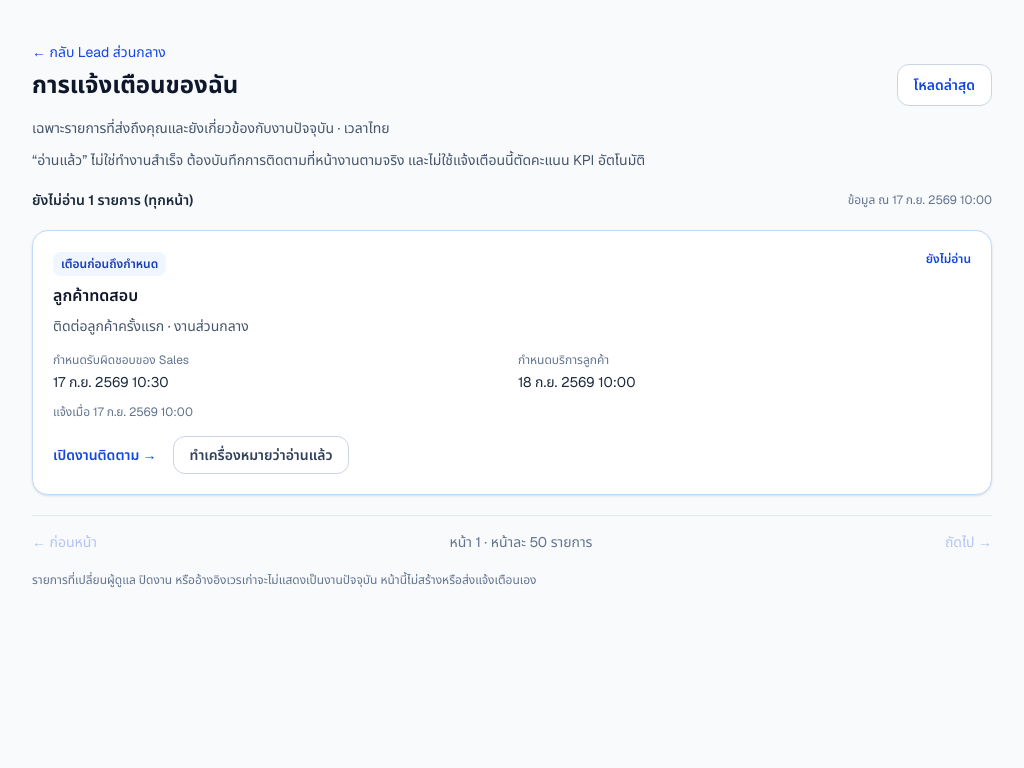
Scenario: own-recipient inbox › preserves a known successful acknowledgment if refresh fails
The width and height of the screenshot is (1024, 768).
Click the button "ทำเครื่องหมายว่าอ่านแล้ว": click(261, 455) [173,436,350,474]
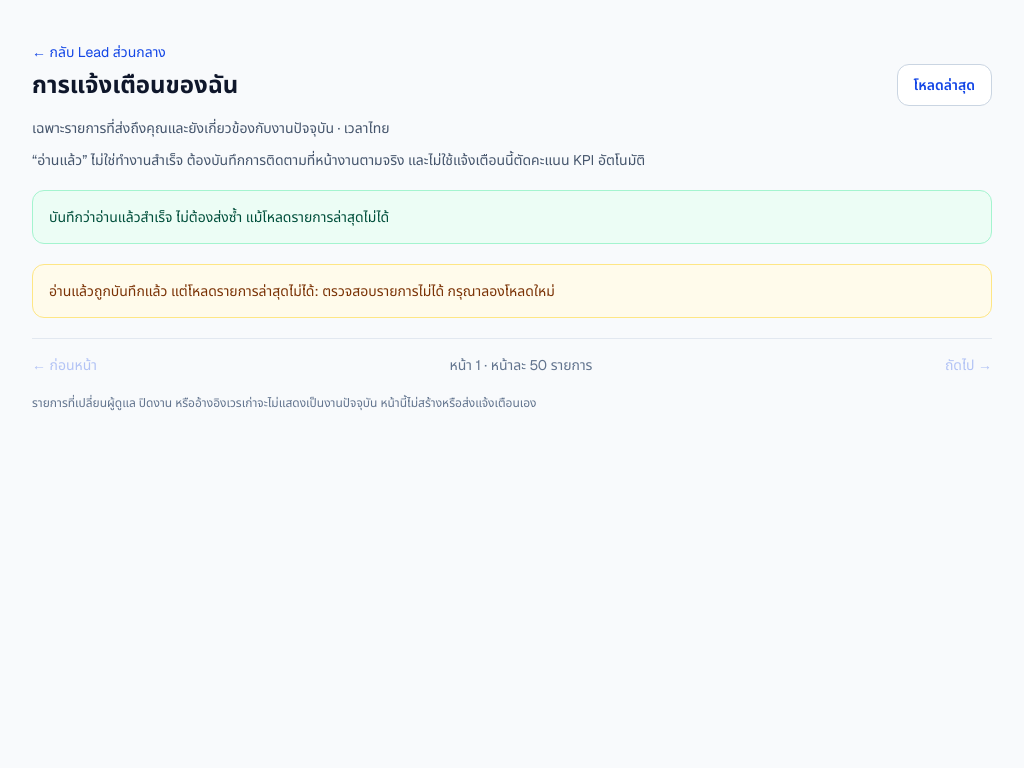
Result: the text "บันทึกว่าอ่านแล้วสำเร็จ ไม่ต้องส่งซ้ำ แม้โหลดรายการล่าสุดไม่ได้" is shown at [32,190,992,244]
Result: the 2nd message shows "อ่านแล้วถูกบันทึกแล้ว" at [49,282,555,300]
Result: the heading "ลูกค้าทดสอบ" is gone
